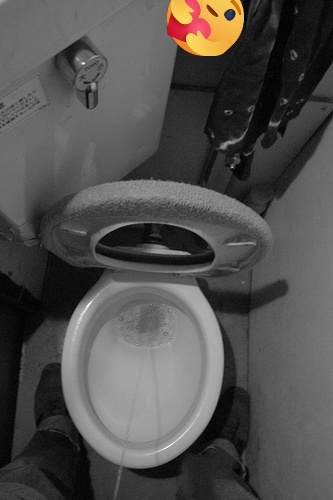care: (167, 0, 244, 56)
